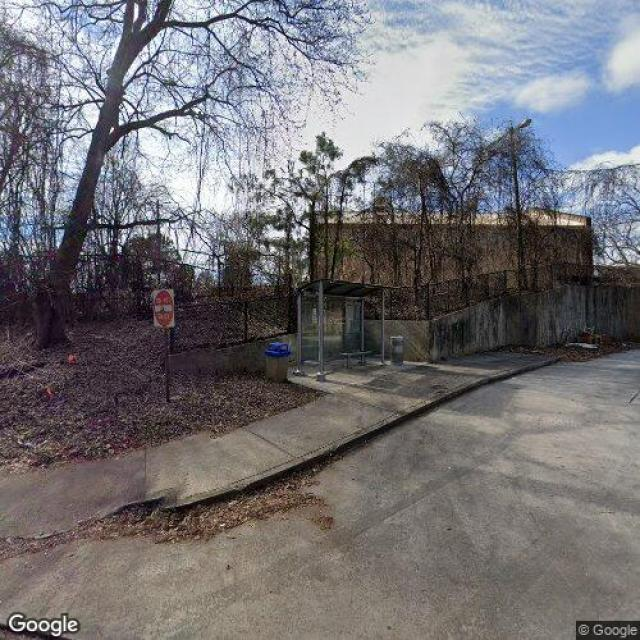seating: (340, 349, 370, 368)
shelter: (292, 278, 393, 381)
trash_can: (264, 342, 290, 382), (390, 336, 404, 368)
